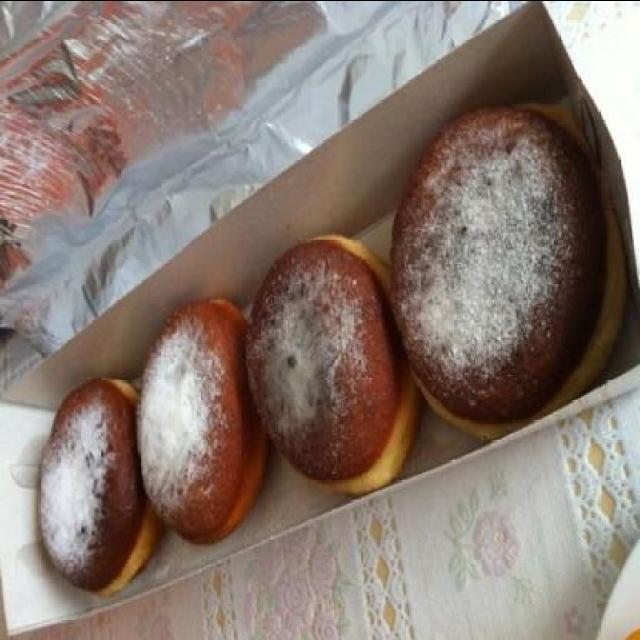Donuts: (15, 54, 628, 618)
